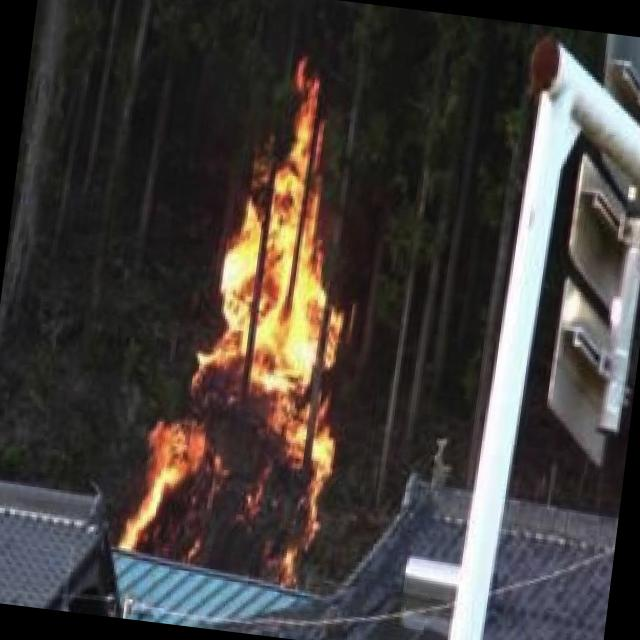fire: (128, 51, 373, 588)
